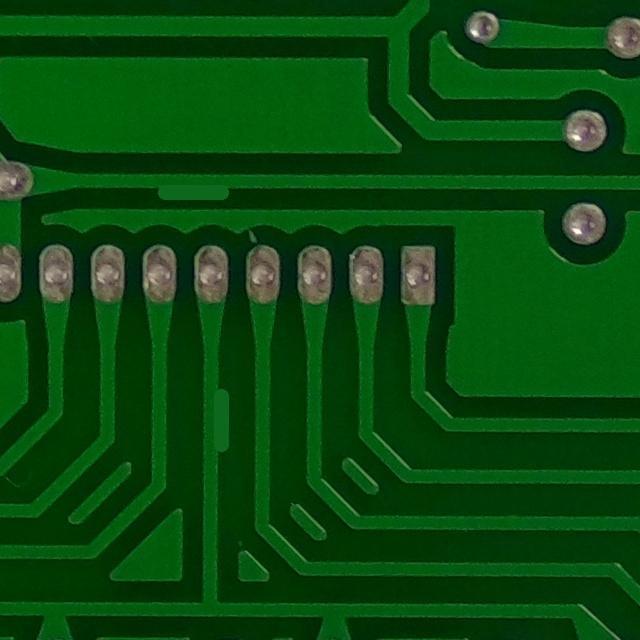spur: (137, 157, 246, 208), (189, 374, 238, 466)
